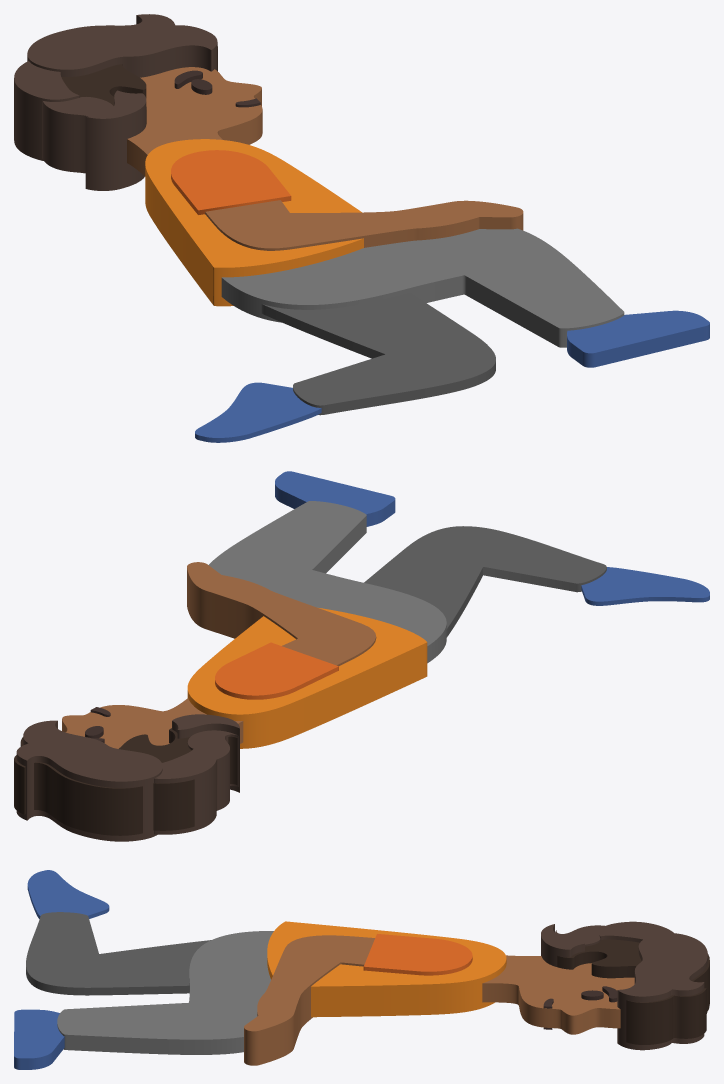
File: emoji_u1f9ce_1f3fe_200d_27a1.glb
3 views of the same model, one above another, from view 1: azimuth 30°, elevation 25°; view 2: azimuth 150°, elevation 25°; view 3: azimuth 270°, elevation 25° (orthographic). The views are drawn at different scales.
Visible parts, largest first — view 1: emoji_u1f9ce_1f3fe_200d_27a1; view 2: emoji_u1f9ce_1f3fe_200d_27a1; view 3: emoji_u1f9ce_1f3fe_200d_27a1.
Part boxes in pixels (x1,y1,x2,y2): emoji_u1f9ce_1f3fe_200d_27a1: (14,14,709,442); emoji_u1f9ce_1f3fe_200d_27a1: (14,471,709,841); emoji_u1f9ce_1f3fe_200d_27a1: (14,870,709,1069).
Size of the model in its own units: 0.0215 by 0.003 by 0.033.
